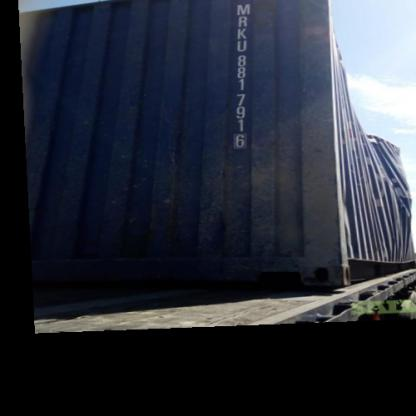Damage: (362, 133, 414, 253), (333, 172, 354, 248)
